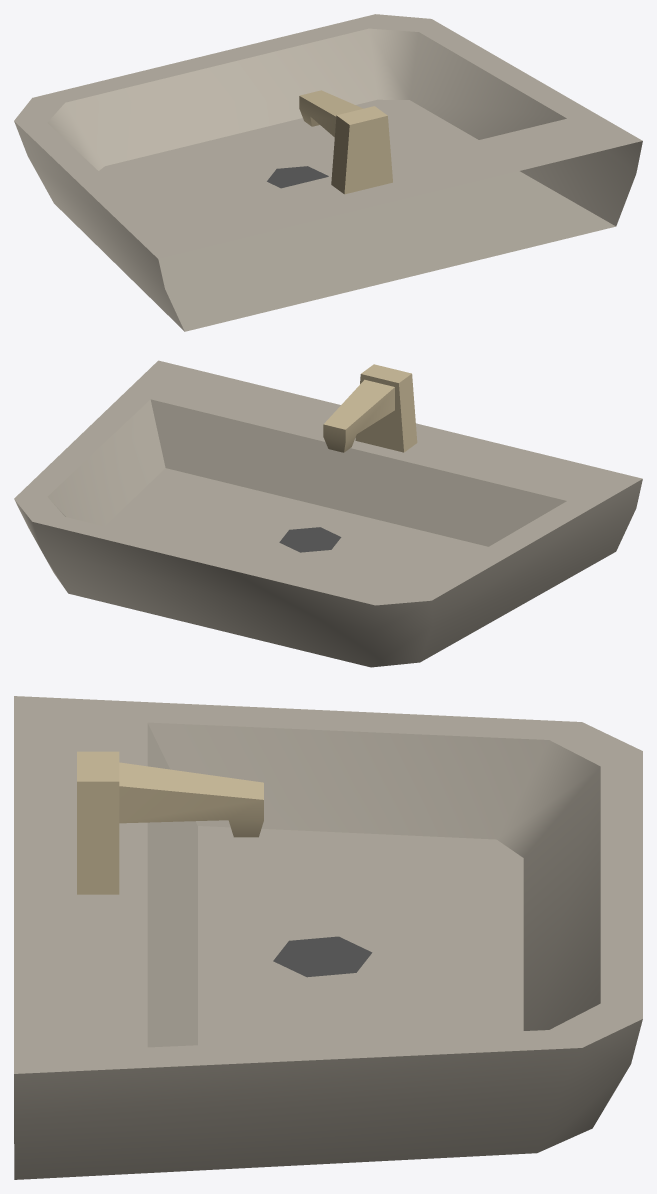
The model's file is SM_Wash_01.fbx.
3 views of the same model, one above another, from view 1: azimuth 30°, elevation 25°; view 2: azimuth 150°, elevation 25°; view 3: azimuth 270°, elevation 25° (orthographic). The views are drawn at different scales.
Visible parts, largest first — view 1: SM_Wash_01; view 2: SM_Wash_01; view 3: SM_Wash_01.
Part boxes in pixels (x1=…): SM_Wash_01: x1=14, y1=14, x2=642, y2=331; SM_Wash_01: x1=14, y1=360, x2=642, y2=667; SM_Wash_01: x1=14, y1=696, x2=642, y2=1179.
Size of the model in its own units: 101 by 29.42 by 71.17.
1 material, 1 textured.
